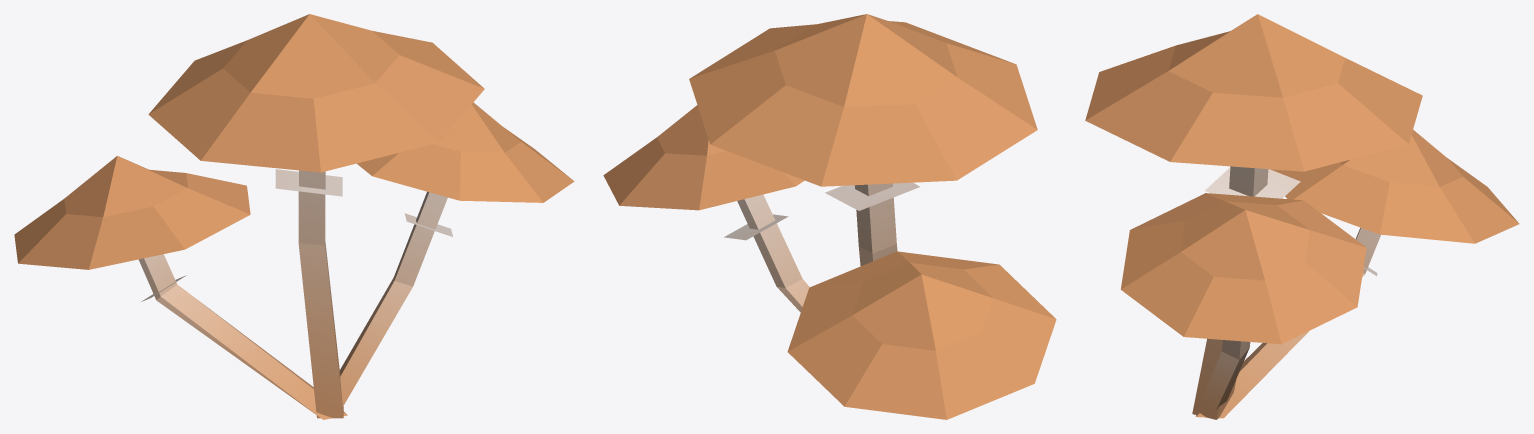
The model's file is Mushroom_i_06.fbx.
The picture shows the model from 3 angles, left to right: view 1: azimuth 30°, elevation 25°; view 2: azimuth 150°, elevation 25°; view 3: azimuth 270°, elevation 25°; orthographic projection. The views are drawn at different scales.
Visible parts, largest first — view 1: Mushroom_i_06; view 2: Mushroom_i_06; view 3: Mushroom_i_06.
Part boxes in pixels (<box>): Mushroom_i_06: <box>14,14,574,419</box>; Mushroom_i_06: <box>603,14,1056,419</box>; Mushroom_i_06: <box>1085,14,1519,419</box>.
Size of the model in its own units: 40.58 by 32.11 by 31.72.
